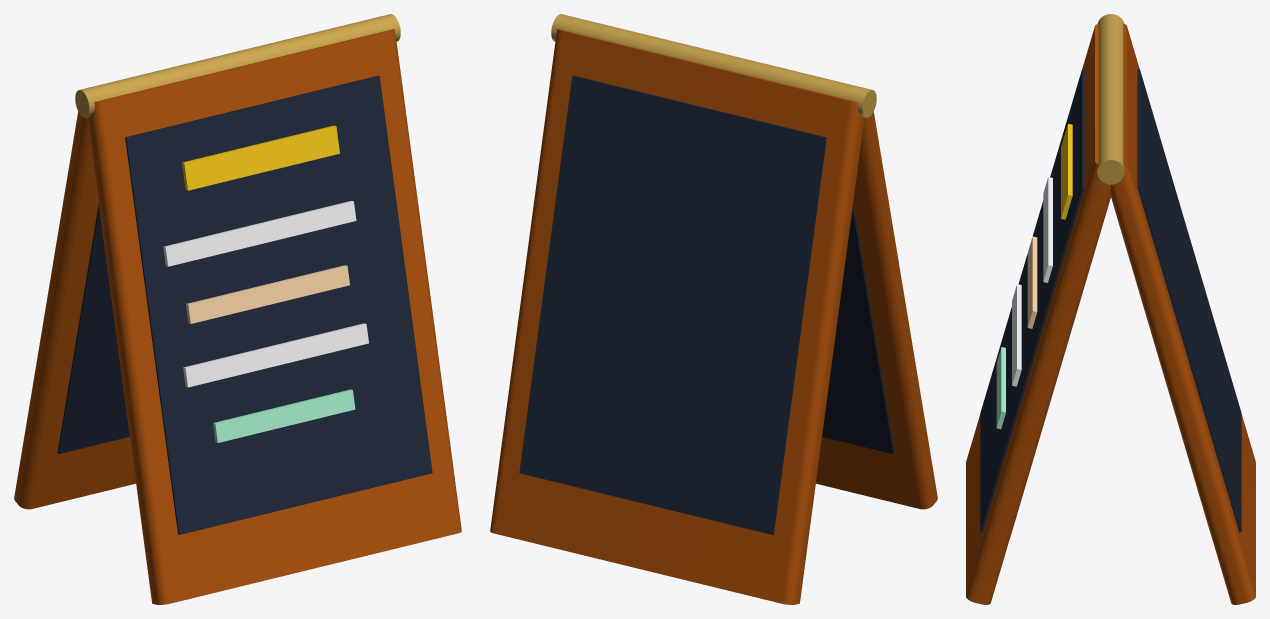
Rendered from menu_board.glb.
The picture shows the model from 3 angles, left to right: view 1: azimuth 30°, elevation 25°; view 2: azimuth 150°, elevation 25°; view 3: azimuth 270°, elevation 25°; orthographic projection. The views are drawn at different scales.
Visible parts, largest first — view 1: chalk_F, frame_F, frame_B, chalk_B, top_hinge, menu_hdr, mline_0, mline_2, mline_1, mline_3; view 2: chalk_B, frame_B, frame_F, chalk_F, top_hinge; view 3: frame_B, frame_F, chalk_B, chalk_F, top_hinge, menu_hdr, mline_0, mline_2, mline_1, mline_3.
Boxes of the visible parts, x1,y1,x2,y2 form: chalk_F: [125, 75, 432, 534]; frame_F: [87, 29, 461, 604]; frame_B: [14, 112, 135, 509]; chalk_B: [57, 204, 129, 453]; top_hinge: [75, 14, 400, 117]; menu_hdr: [182, 125, 339, 190]; mline_0: [163, 201, 356, 266]; mline_2: [183, 323, 368, 387]; mline_1: [186, 265, 349, 323]; mline_3: [213, 389, 355, 442]; chalk_B: [519, 75, 826, 534]; frame_B: [490, 29, 864, 604]; frame_F: [816, 112, 937, 509]; chalk_F: [822, 204, 894, 453]; top_hinge: [551, 14, 876, 117]; frame_B: [1111, 24, 1255, 604]; frame_F: [966, 24, 1110, 604]; chalk_B: [1111, 68, 1241, 533]; chalk_F: [980, 68, 1110, 533]; top_hinge: [1097, 14, 1124, 184]; menu_hdr: [1061, 123, 1072, 219]; mline_0: [1043, 177, 1052, 282]; mline_2: [1012, 284, 1021, 386]; mline_1: [1027, 236, 1037, 328]; mline_3: [996, 347, 1005, 429].
Size of the model in its own units: 0.43 by 0.6161 by 0.3609.
